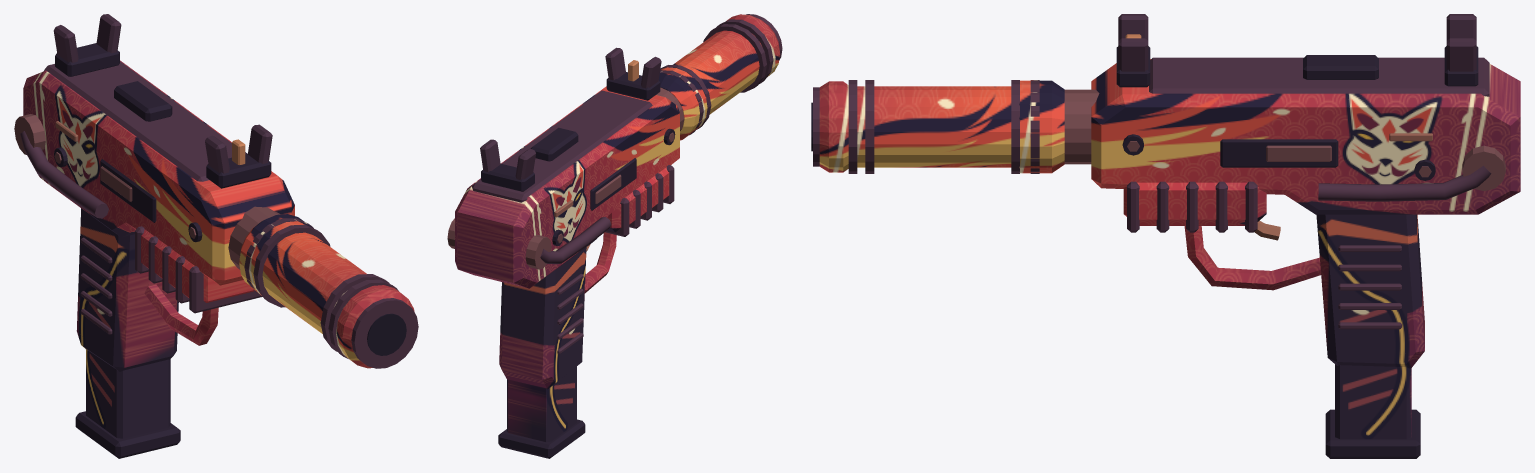
The model's file is Uzi_Foxfire.glb.
3 renders of one model, left to right at view 1: azimuth 30°, elevation 25°; view 2: azimuth 150°, elevation 25°; view 3: azimuth 270°, elevation 25°, orthographic. The views are drawn at different scales.
Parts seen in each view (by area): view 1: Main, Suppressor, Magazine, Stock; view 2: Main, Suppressor, Magazine, Stock; view 3: Main, Suppressor, Magazine, Stock.
Boxes of the visible parts, x1=… form: Main: x1=23, y1=14, x2=294, y2=371; Suppressor: x1=228, y1=206, x2=418, y2=368; Magazine: x1=75, y1=349, x2=180, y2=458; Stock: x1=14, y1=114, x2=108, y2=218; Main: x1=455, y1=47, x2=679, y2=389; Suppressor: x1=656, y1=14, x2=782, y2=140; Magazine: x1=498, y1=366, x2=585, y2=458; Stock: x1=447, y1=217, x2=611, y2=269; Main: x1=1091, y1=14, x2=1520, y2=368; Suppressor: x1=811, y1=80, x2=1099, y2=173; Magazine: x1=1325, y1=364, x2=1420, y2=458; Stock: x1=1318, y1=145, x2=1505, y2=201.
Size of the model in its own units: 0.5299 by 1.64 by 2.53.
1 material, 1 textured.
